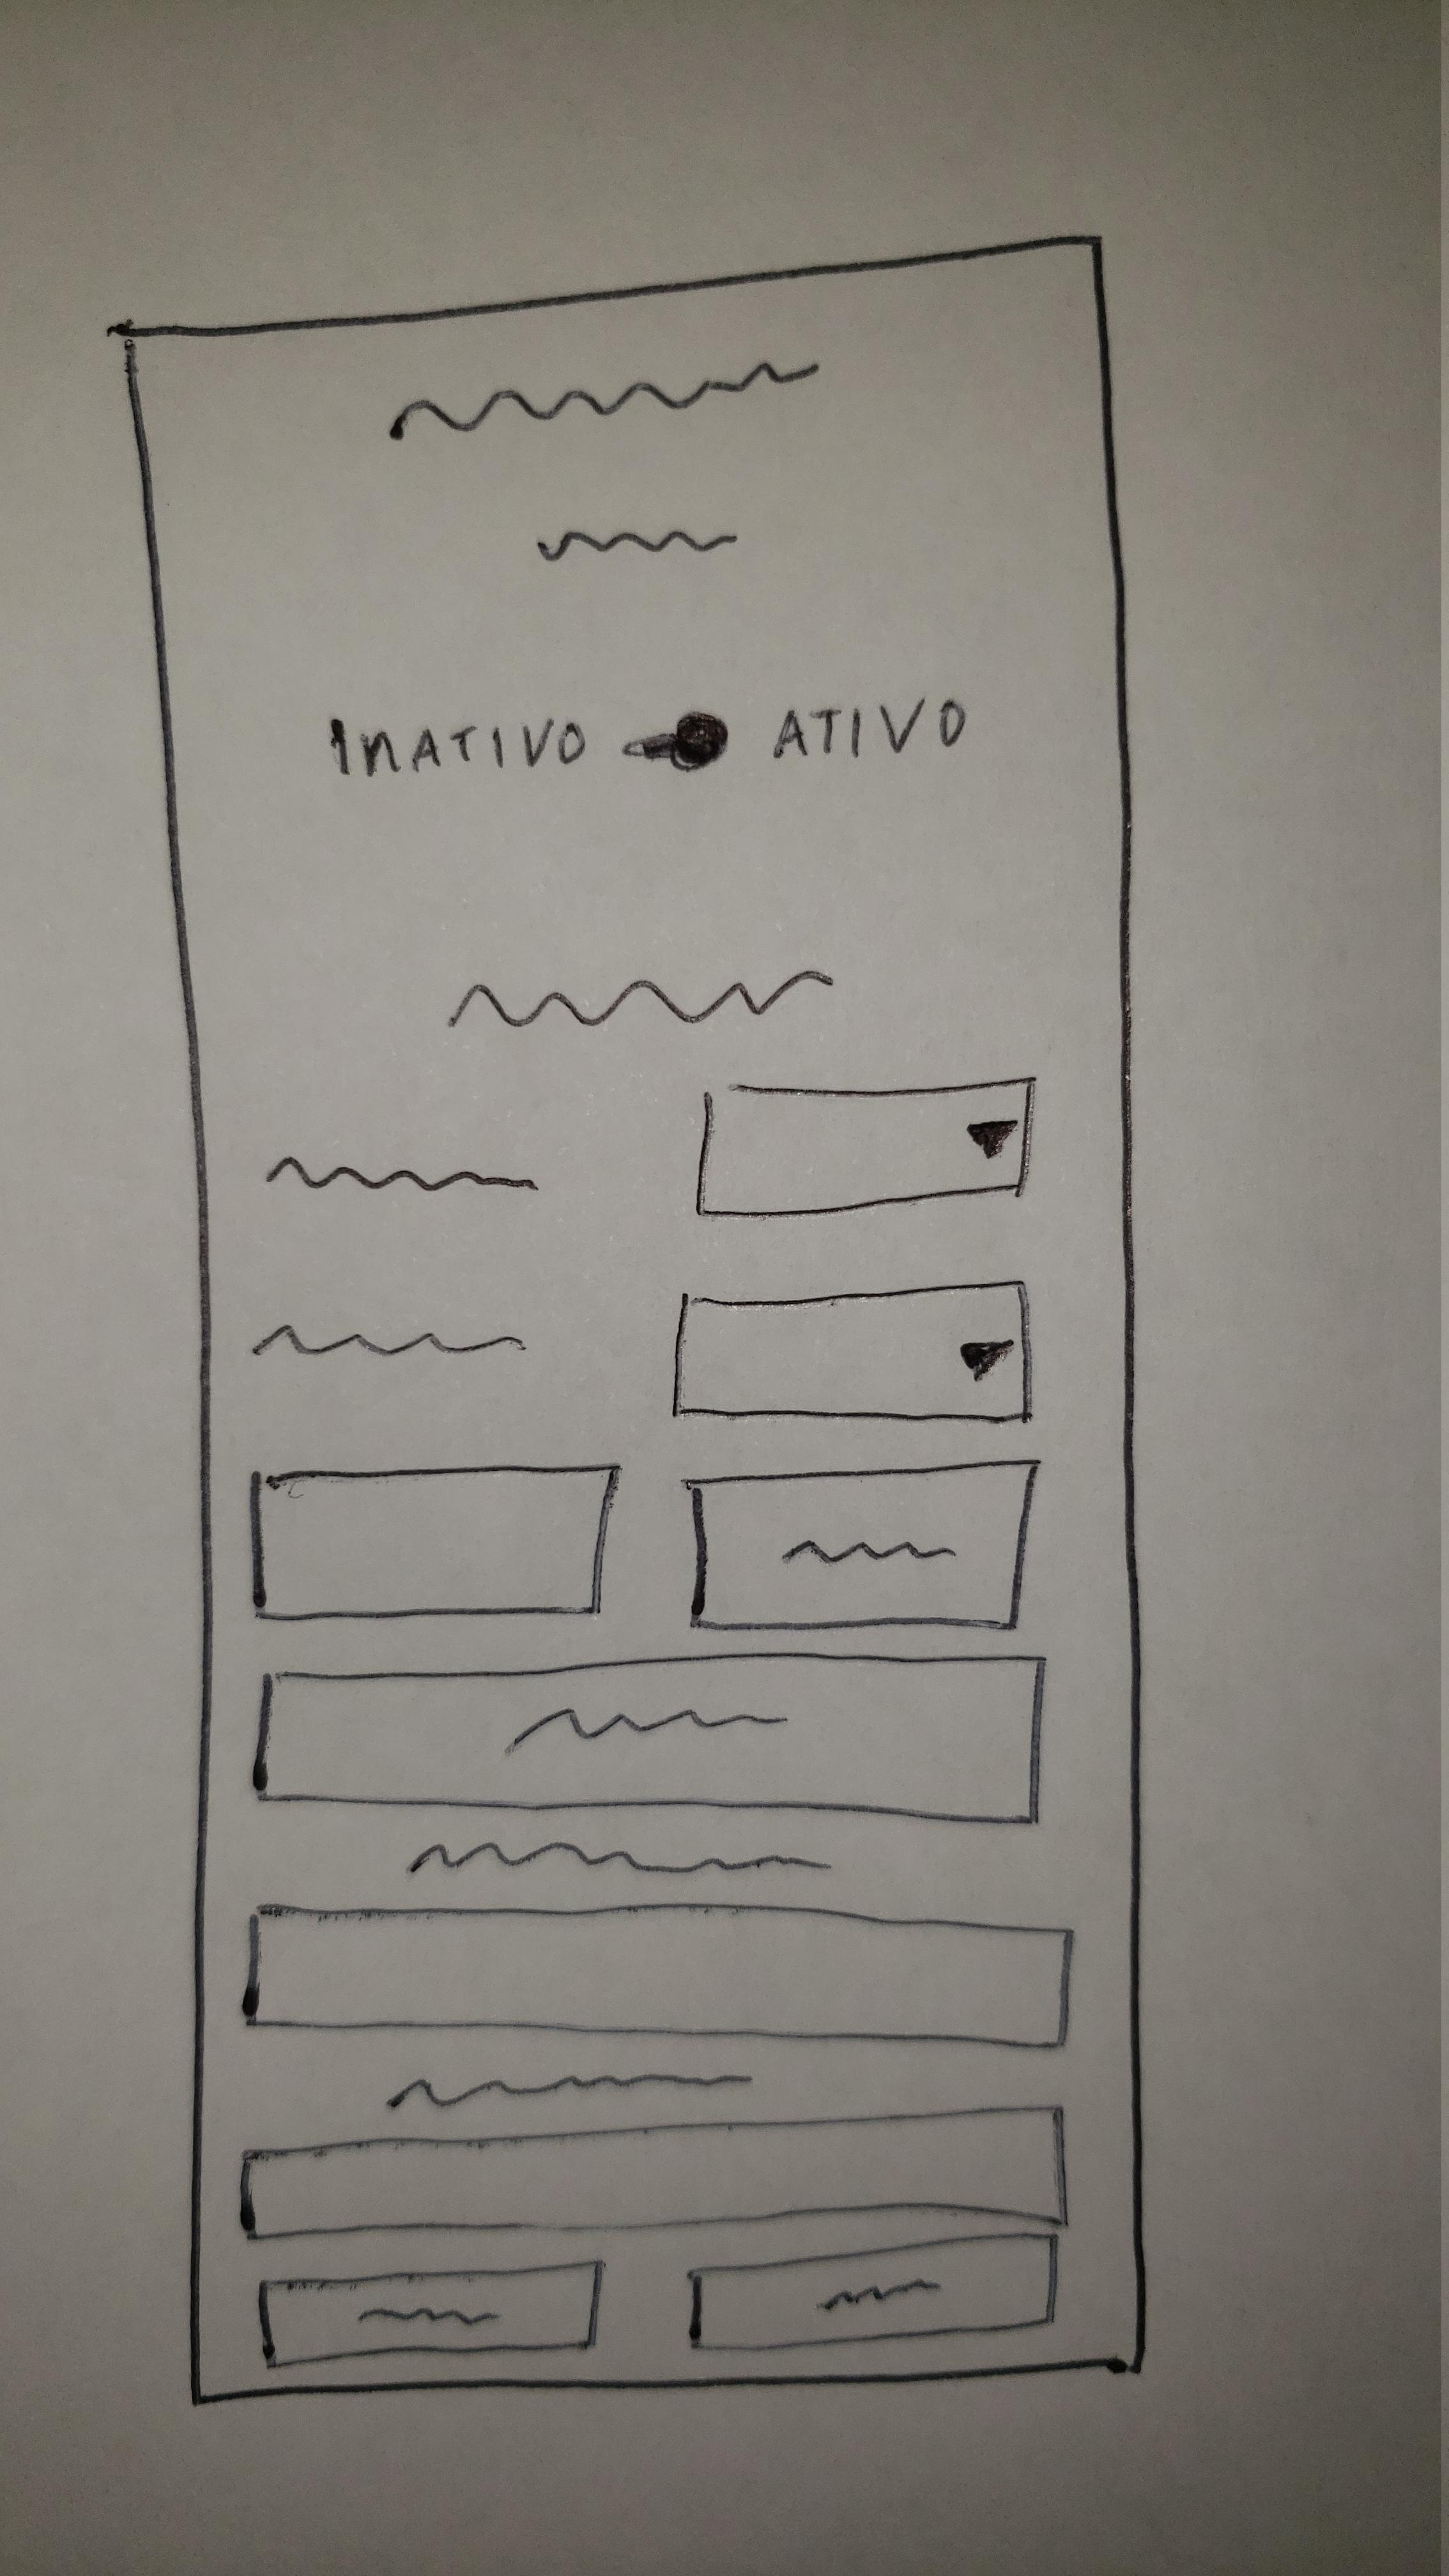Button: (251, 1647, 1046, 1826), (244, 1902, 1072, 2049), (683, 1458, 1037, 1631), (688, 2233, 1054, 2351), (255, 2259, 602, 2365)
Label: (387, 352, 826, 442), (448, 970, 832, 1026), (324, 718, 589, 780), (387, 2070, 755, 2107), (409, 1840, 830, 1872), (771, 695, 968, 761), (262, 1155, 536, 1196), (251, 1320, 524, 1359), (536, 525, 736, 563)
ListPicker: (671, 1281, 1037, 1422), (695, 1081, 1035, 1219)
Screen: (124, 230, 1148, 2406)
Switch: (621, 709, 727, 773)
TextBox: (239, 2104, 1067, 2242), (253, 1461, 616, 1624)
